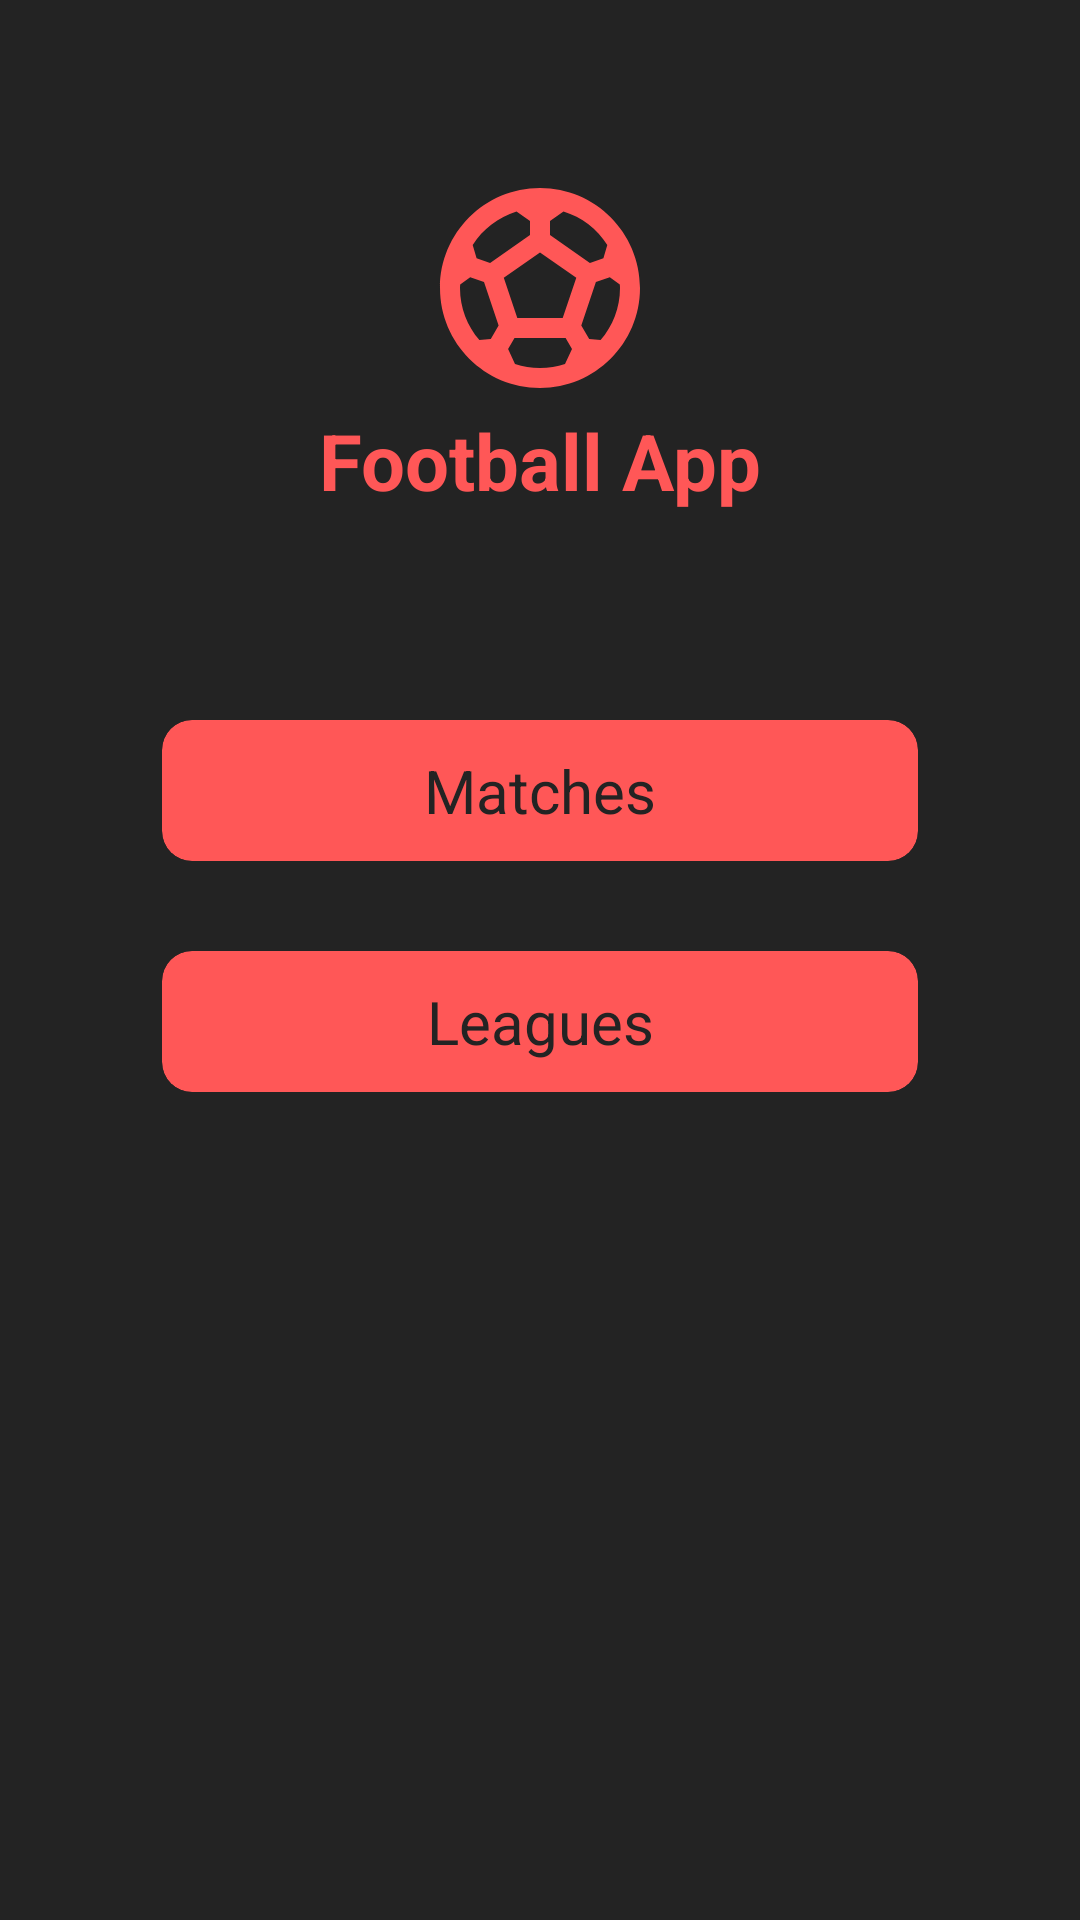

Icon click points for this 1080px x 1920px phone screenshot, format (x=x, y=y):
sports soccer: (x=540, y=288)
